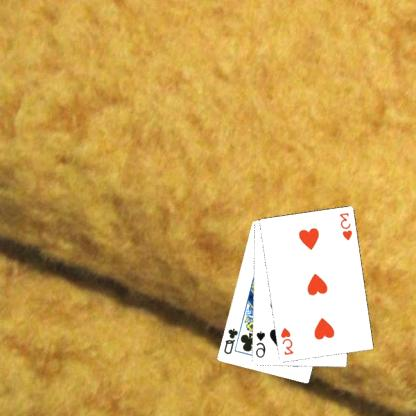3H: (338, 210, 355, 242), (280, 325, 296, 356)
9S: (254, 328, 269, 360)
QC: (223, 326, 241, 356)
